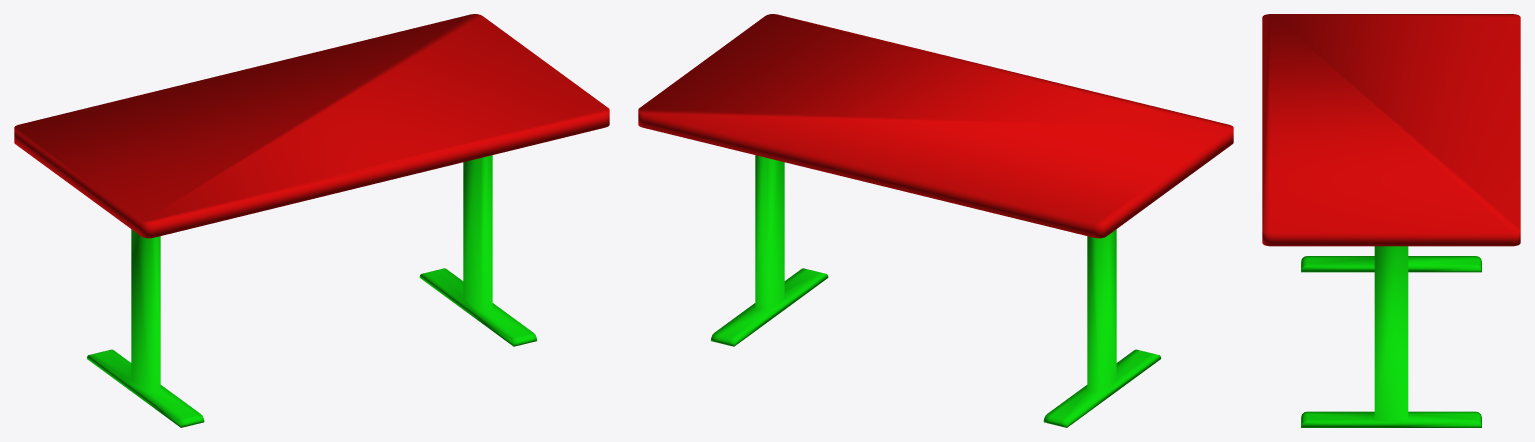
The model's file is desk.fbx.
The picture shows the model from 3 angles, left to right: view 1: azimuth 30°, elevation 25°; view 2: azimuth 150°, elevation 25°; view 3: azimuth 270°, elevation 25°; orthographic projection. The views are drawn at different scales.
Parts seen in each view (by area): view 1: desk_low; view 2: desk_low; view 3: desk_low.
Boxes of the visible parts, bbox=[...] form: desk_low: bbox=[14, 14, 609, 427]; desk_low: bbox=[638, 14, 1233, 427]; desk_low: bbox=[1262, 14, 1520, 427].
Bounding box in the file's own units: 160 × 75.63 × 80.
